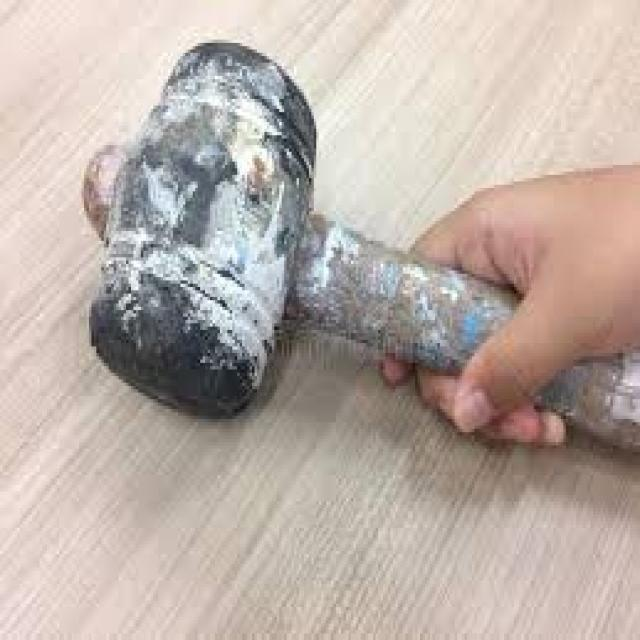hammer: (74, 23, 640, 465)
